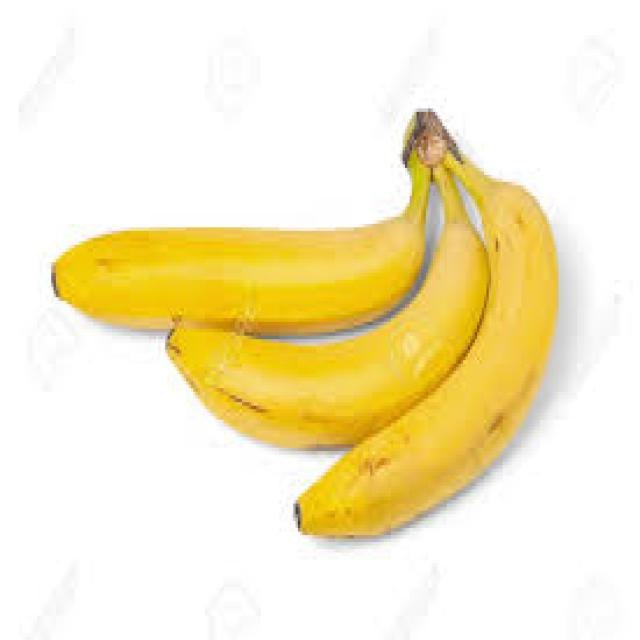Banana: (296, 159, 557, 534), (167, 169, 487, 446), (53, 156, 430, 333)
